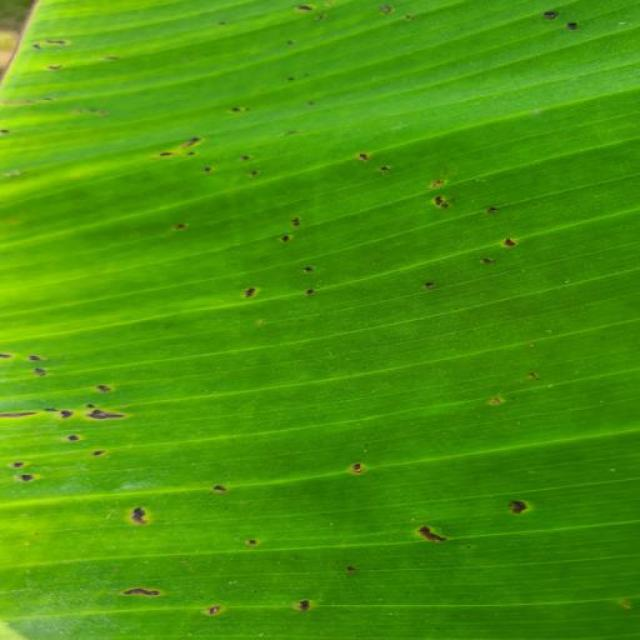Black_rot: (139, 94, 538, 317), (192, 453, 560, 640), (3, 327, 170, 542), (260, 5, 428, 38), (116, 564, 176, 636), (537, 0, 596, 48)
